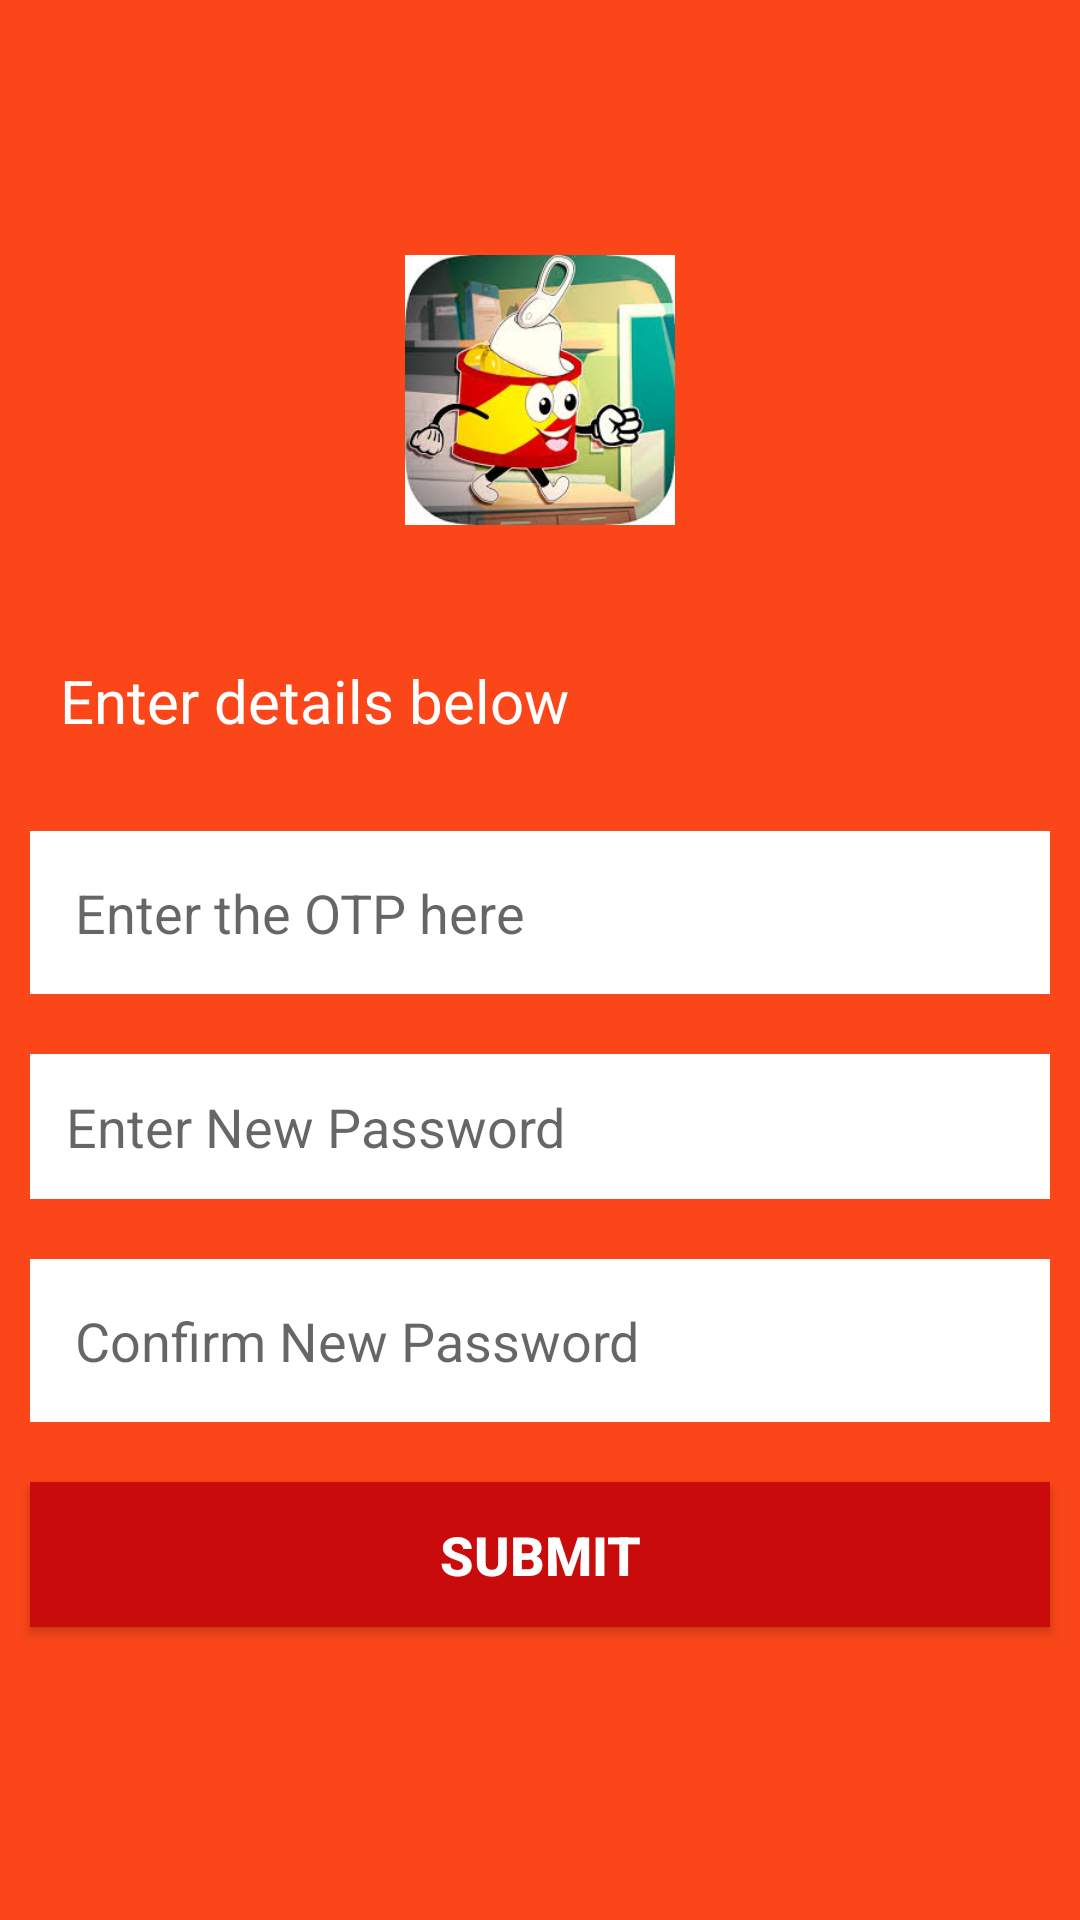

Locate icon controls on the screen. Image size 1080px x 1920px, boxes as (x1, y1, x2, y2).
foodpic: (405, 255, 675, 525)
